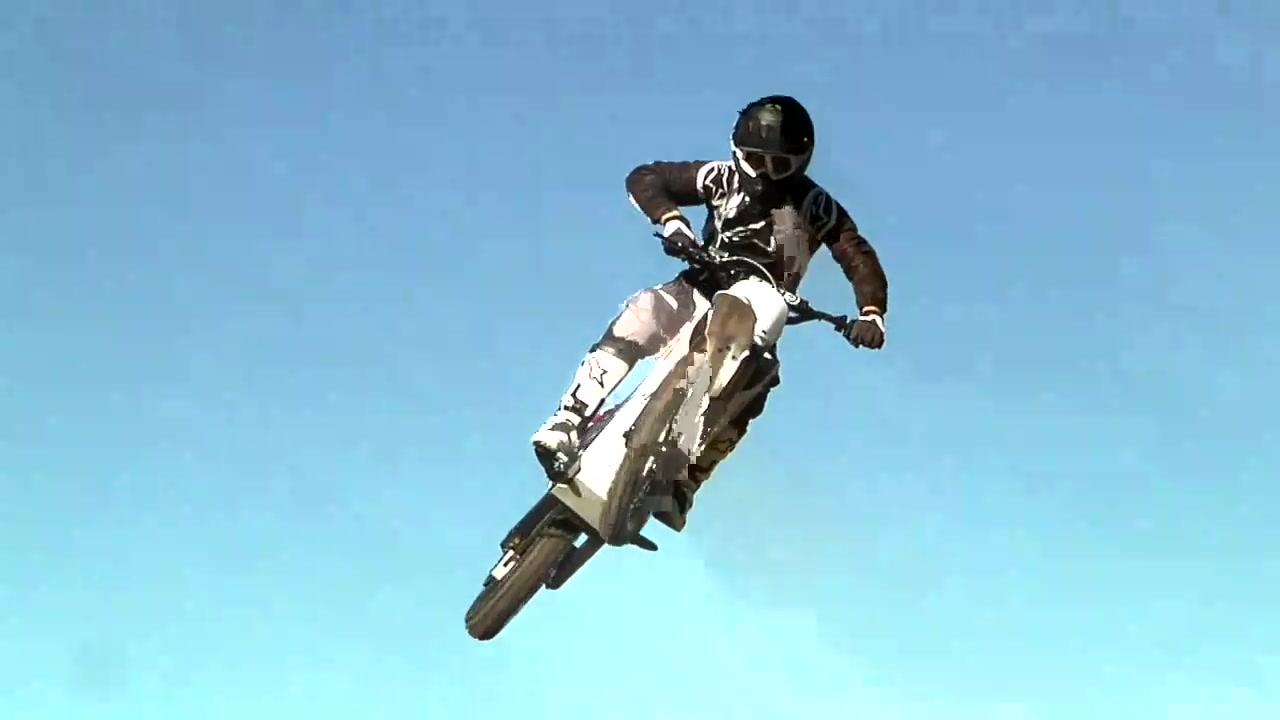motorbike: (464, 228, 876, 645)
